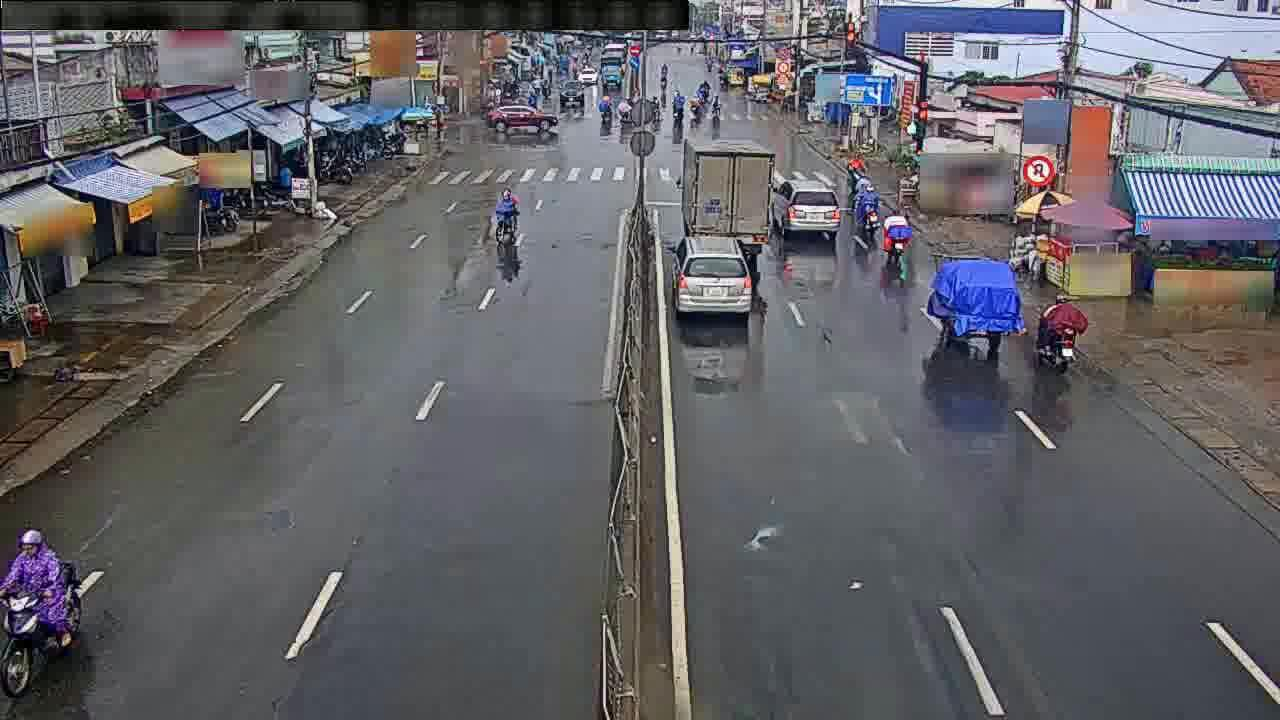8: (683, 134, 775, 249)
container: (672, 241, 751, 315), (771, 181, 840, 236)
motorbike: (0, 526, 67, 701), (1032, 284, 1074, 379), (486, 183, 529, 252), (882, 206, 908, 258), (856, 177, 877, 235), (846, 150, 866, 192)
